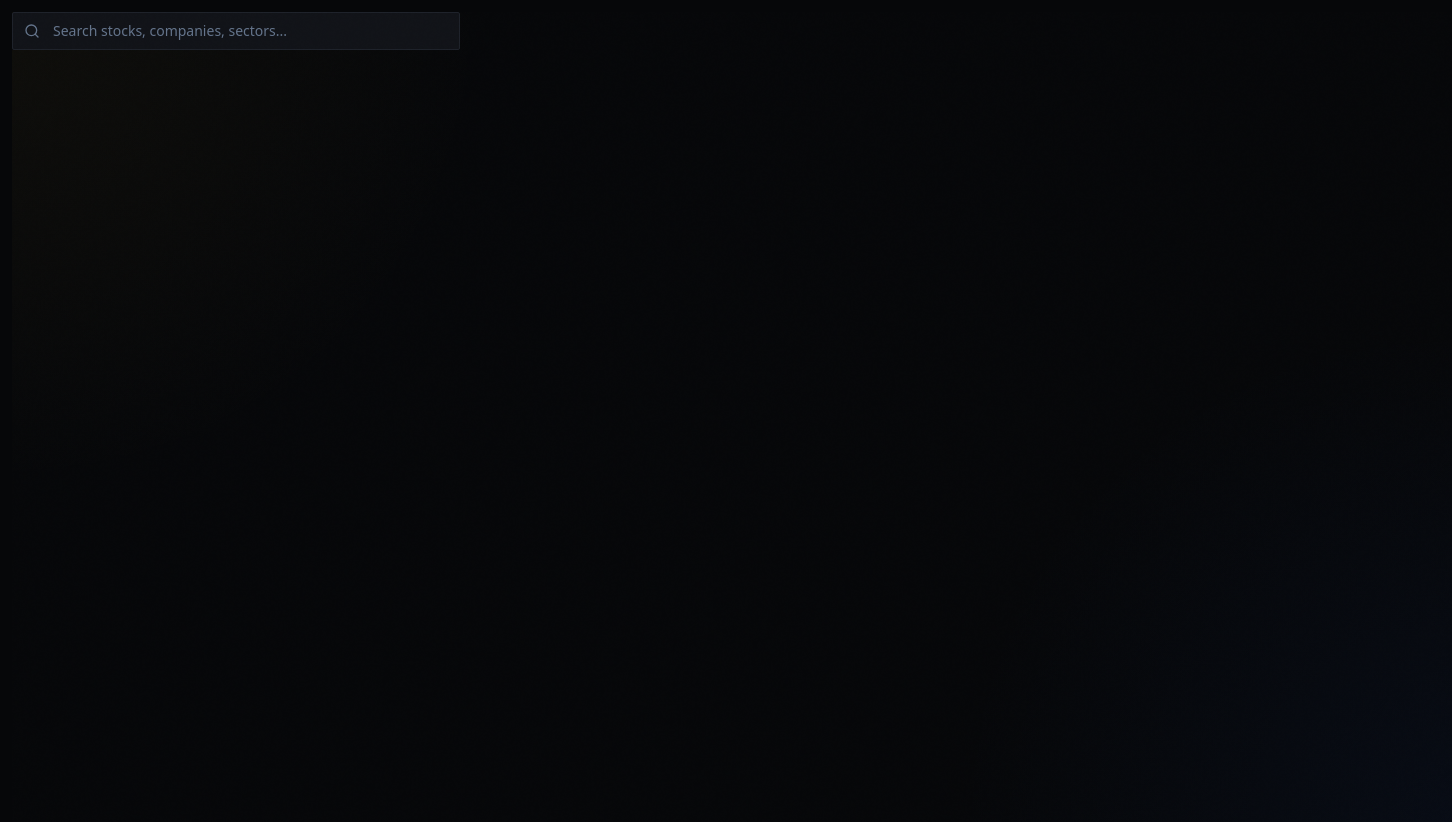
Test: SearchBar debounce, cancellation and stale-result protection › never fires a live search while the shared backend readiness is "waking", even for a valid query
Type "hdfc" into the field with placeholder "Search stocks, companies, sectors..." at (236, 31), box [12,12,460,50]
Wait 2000 ms
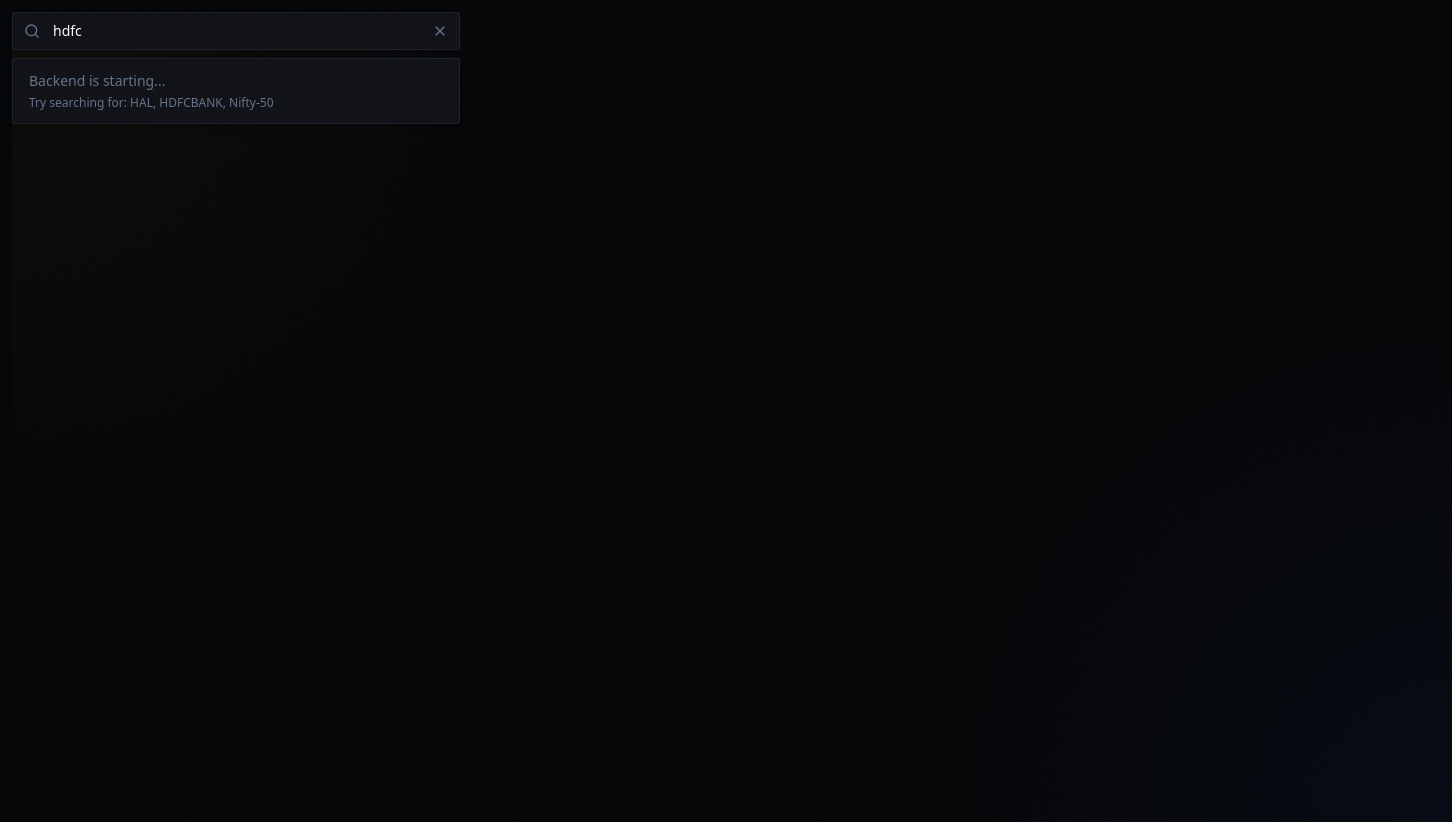
Result: the text "Backend is starting…" is shown at [29,71,165,90]
